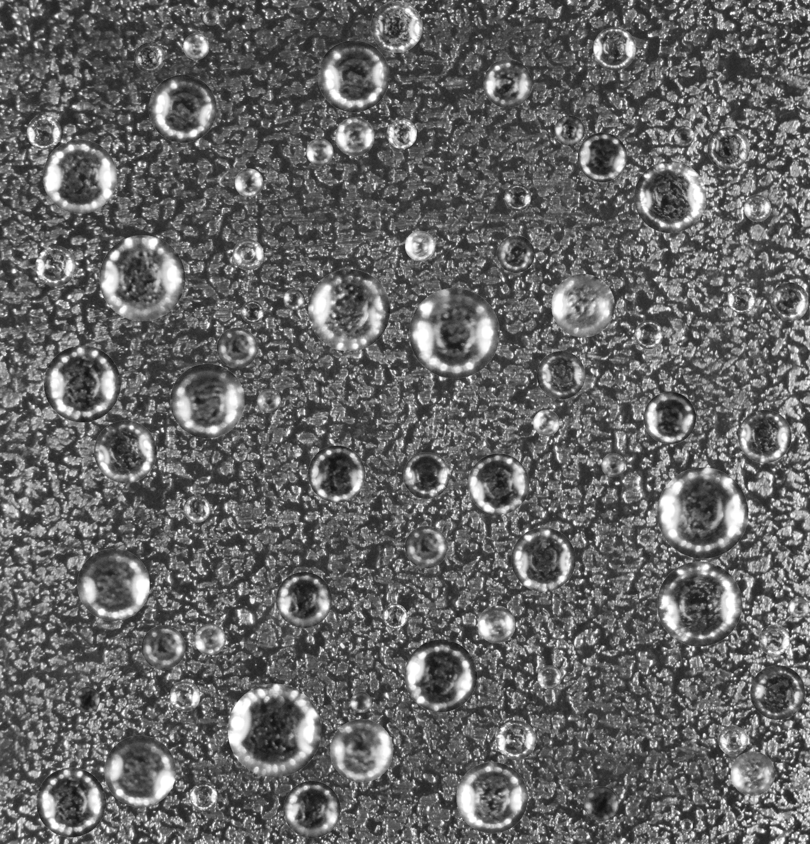Bubble: (227, 683, 321, 777), (657, 467, 748, 558), (409, 288, 499, 378), (99, 235, 185, 321), (657, 561, 742, 646), (308, 269, 390, 351), (43, 345, 120, 422), (170, 363, 244, 438), (42, 139, 116, 213), (404, 639, 477, 712), (634, 161, 706, 233), (77, 548, 149, 620), (317, 40, 389, 112), (104, 735, 175, 807), (456, 762, 527, 833), (36, 767, 105, 837), (148, 74, 216, 142), (511, 527, 575, 591), (330, 719, 393, 782), (551, 274, 614, 337), (94, 420, 156, 483), (468, 453, 529, 514), (308, 445, 365, 502), (283, 781, 340, 838), (276, 572, 331, 627), (750, 665, 805, 719), (738, 409, 791, 463), (643, 391, 696, 444), (370, 0, 422, 52), (577, 132, 627, 182), (483, 59, 532, 107), (537, 351, 585, 399), (403, 452, 449, 498), (730, 751, 775, 795), (141, 625, 185, 669), (593, 27, 636, 70), (707, 127, 750, 169), (405, 526, 447, 568), (216, 327, 257, 368), (35, 245, 75, 286), (496, 720, 536, 760), (335, 117, 374, 156), (770, 282, 808, 321), (477, 605, 515, 643), (497, 235, 534, 272), (26, 114, 61, 149), (584, 786, 618, 821), (194, 623, 225, 655), (758, 624, 789, 655), (232, 239, 263, 270), (169, 681, 200, 711), (134, 42, 165, 72), (386, 118, 416, 148), (405, 230, 435, 260), (554, 115, 584, 145), (718, 725, 747, 755), (634, 320, 663, 349), (727, 285, 756, 313), (234, 168, 263, 196), (189, 783, 217, 810), (744, 194, 771, 221), (306, 138, 333, 165), (183, 495, 210, 522), (533, 409, 559, 436), (504, 184, 531, 210), (183, 33, 209, 59), (74, 687, 99, 712), (382, 604, 407, 628), (601, 453, 625, 477), (537, 665, 561, 689), (257, 389, 280, 412), (241, 300, 263, 323), (350, 692, 371, 713), (283, 288, 304, 309), (674, 125, 694, 146), (788, 597, 809, 617), (202, 8, 219, 25), (707, 102, 721, 116), (680, 819, 692, 831), (728, 455, 737, 464)
